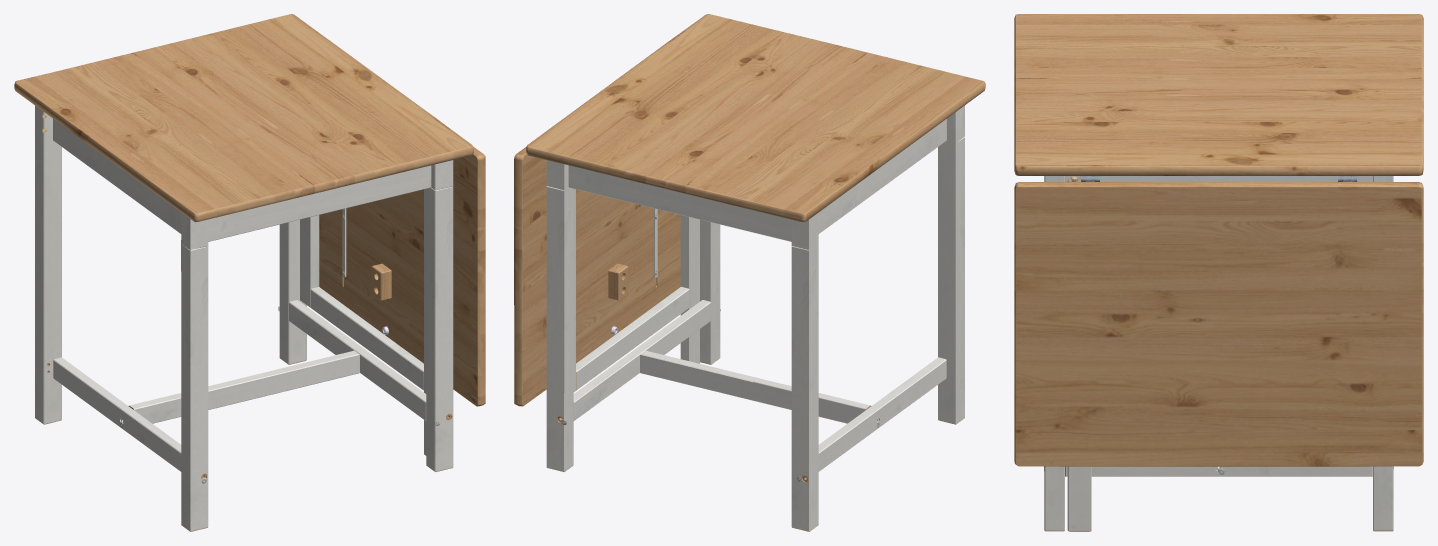
3 views of the same model, side by side, from view 1: azimuth 30°, elevation 25°; view 2: azimuth 150°, elevation 25°; view 3: azimuth 270°, elevation 25° (orthographic). The views are drawn at different scales.
Parts seen in each view (by area): view 1: ASY_ART_70529465_S01_NV01; view 2: ASY_ART_70529465_S01_NV01; view 3: ASY_ART_70529465_S01_NV01.
Part boxes in pixels (left/top/right/bottom): ASY_ART_70529465_S01_NV01: left=14, top=14, right=485, bottom=531; ASY_ART_70529465_S01_NV01: left=514, top=14, right=985, bottom=531; ASY_ART_70529465_S01_NV01: left=1014, top=14, right=1423, bottom=531.
Size of the model in its own units: 0.6915 by 0.75 by 0.7505.
1 material, 1 textured.
